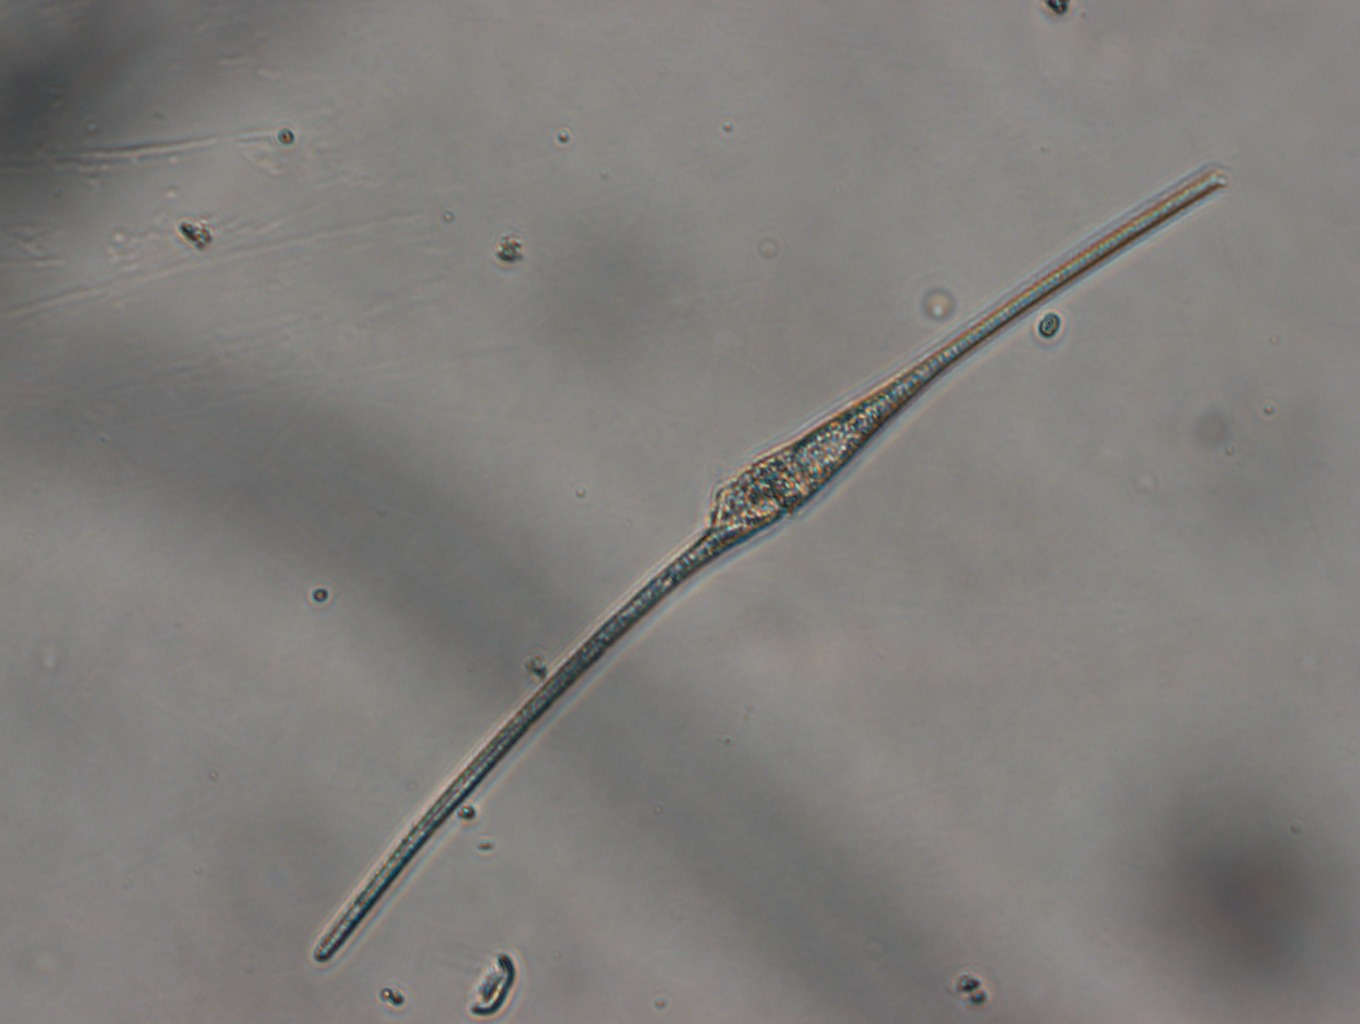ceratium fusus: (306, 166, 1237, 971)
